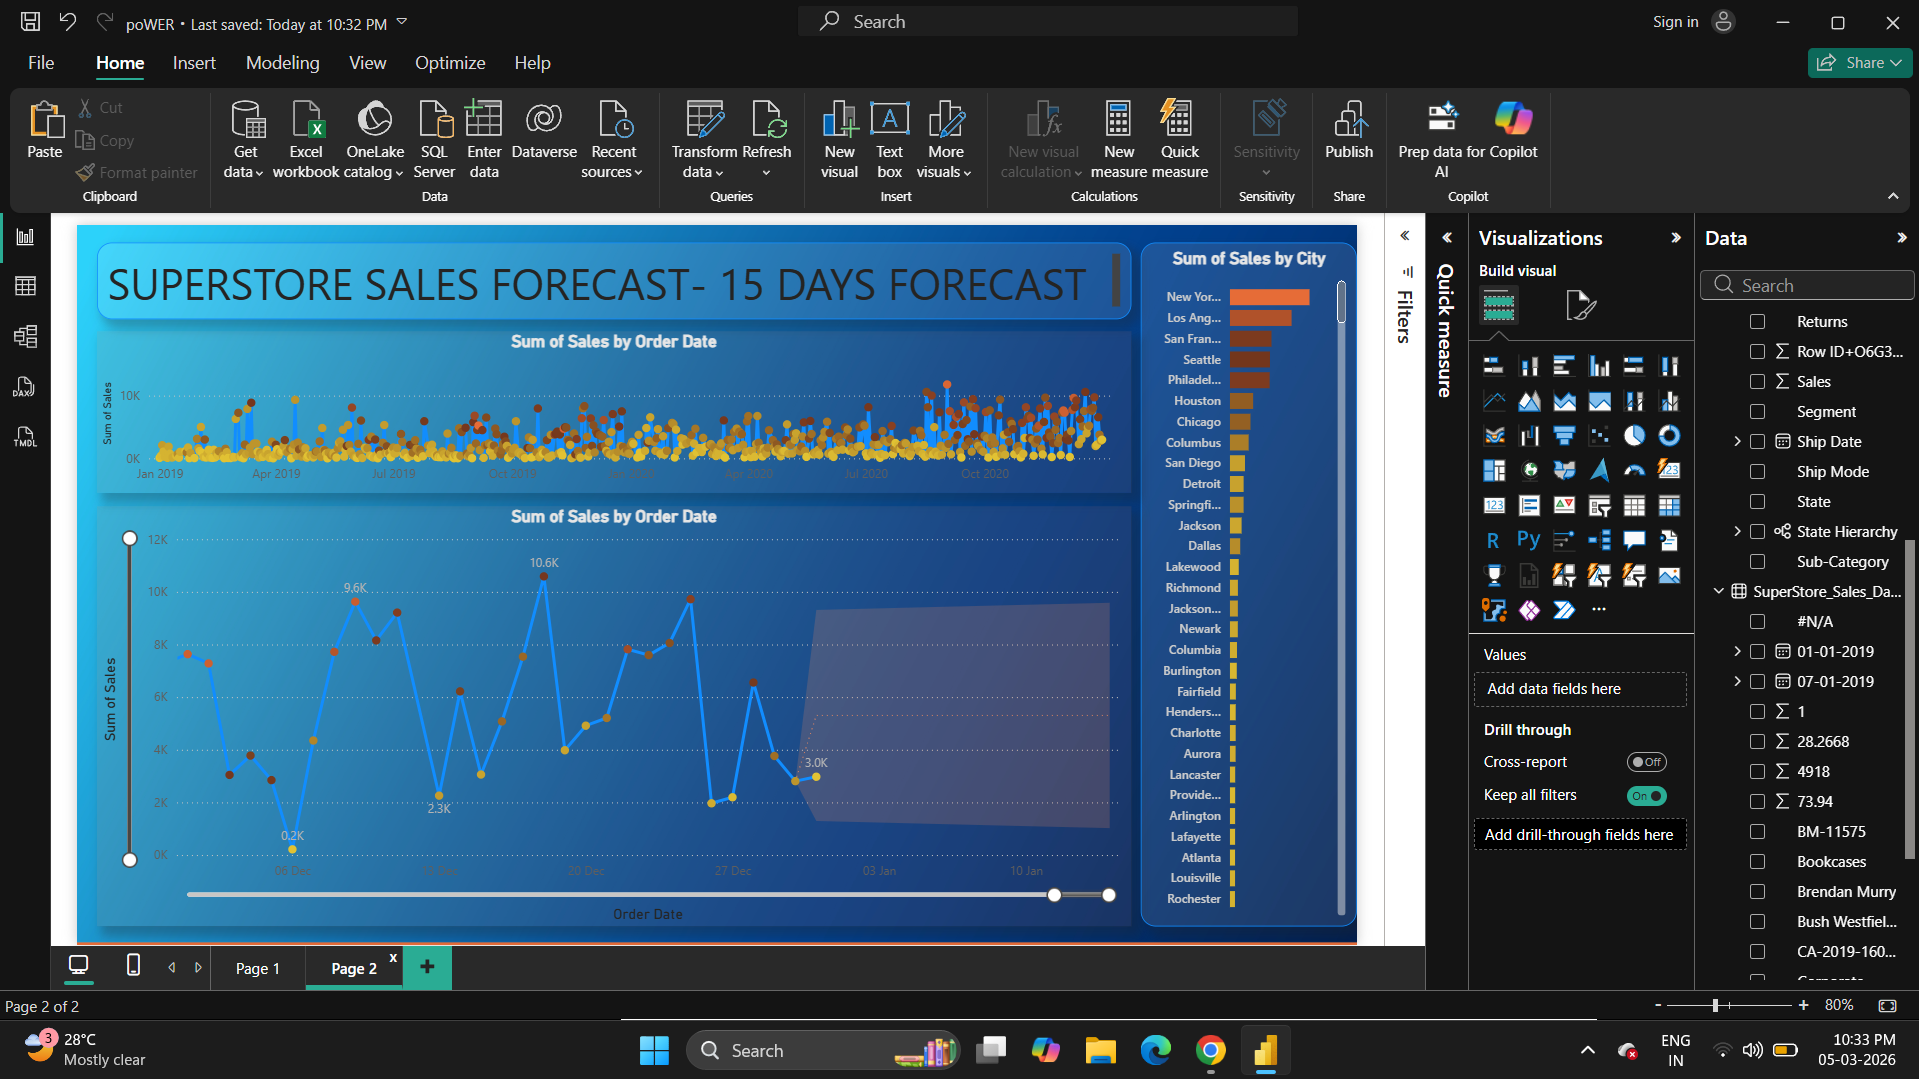

The dashboard page shown, as its layout file describes it:
{"tool":"powerbi","page":{"name":"Page 2","canvas":[1280,720],"ordinal":1},"visuals":[{"type":"lineChart","fields":{"Y":["Sum(SuperStore_Sales_Dataset.Sales)"],"Category":["SuperStore_Sales_Dataset.Order Date"]},"box":[20,281.4,1034.3,420],"z":0},{"type":"textbox","box":[20,17.1,1034.3,77.1],"z":1000},{"type":"clusteredBarChart","fields":{"Y":["Sum(SuperStore_Sales_Dataset.Sales)"],"Category":["SuperStore_Sales_Dataset.City"]},"box":[1064.3,17.1,215.7,684.3],"z":2000},{"type":"lineChart","fields":{"Y":["Sum(SuperStore_Sales_Dataset.Sales)"],"Category":["SuperStore_Sales_Dataset.Order Date"]},"box":[20,105.7,1034.3,161.4],"z":3000}]}

Visuals, with their boxes on the page's 1280x720 design canvas (x1, y1, x2, y2). These are canvas units, not pixel positions in the 1919x1079 screenshot, which may show the page scaled, cropped or inside an application window:
lineChart - Sum(SuperStore_Sales_Dataset.Sales) x SuperStore_Sales_Dataset.Order Date: [20, 281, 1054, 701]
textbox: [20, 17, 1054, 94]
clusteredBarChart - Sum(SuperStore_Sales_Dataset.Sales) x SuperStore_Sales_Dataset.City: [1064, 17, 1280, 701]
lineChart - Sum(SuperStore_Sales_Dataset.Sales) x SuperStore_Sales_Dataset.Order Date: [20, 106, 1054, 267]
